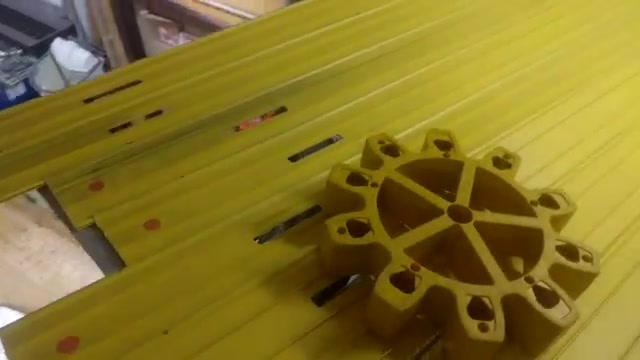gear: (307, 108, 610, 360)
